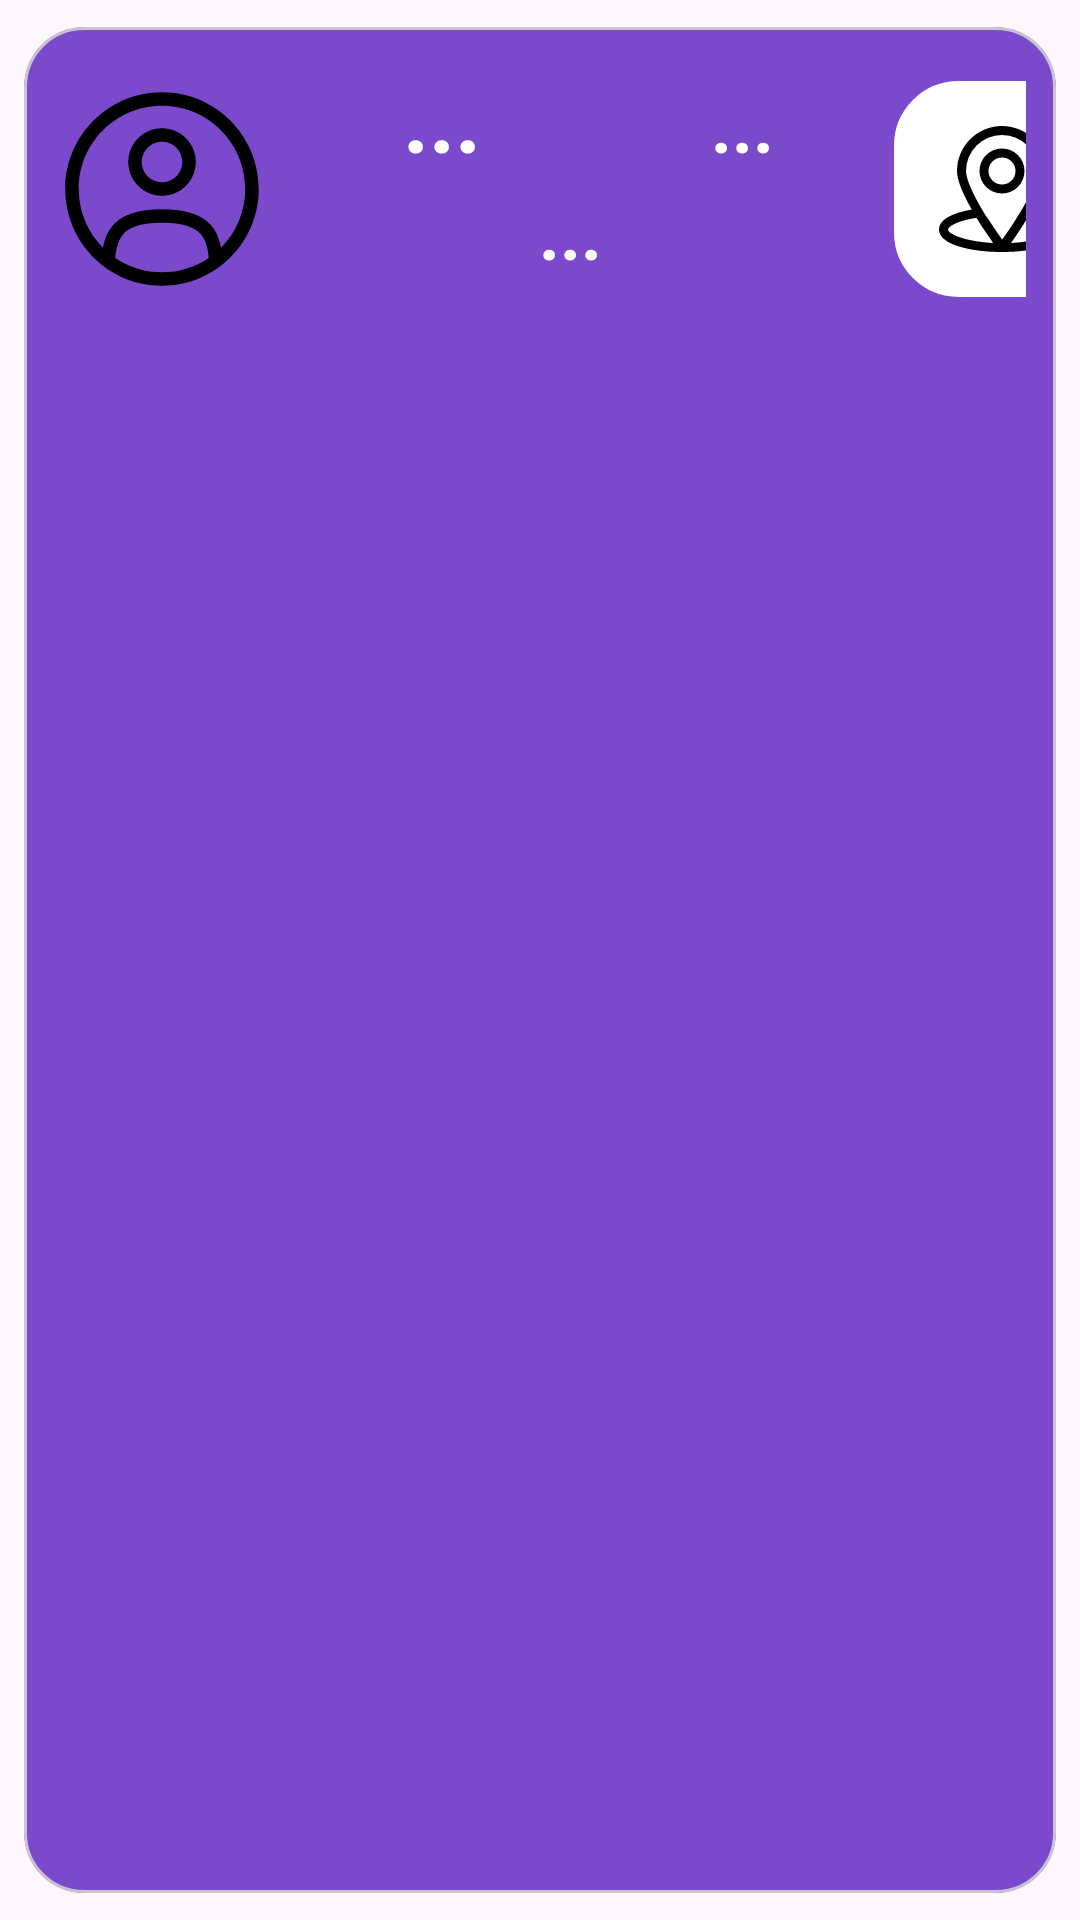

Named icons in this screenshot (1080px×1920px) and their bounding boxes, (x1, y1, x2, y2):
user: (65, 92, 259, 286)
